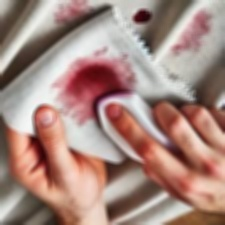wine: (61, 66, 138, 120), (172, 13, 205, 54), (55, 0, 96, 30), (133, 8, 154, 25)
